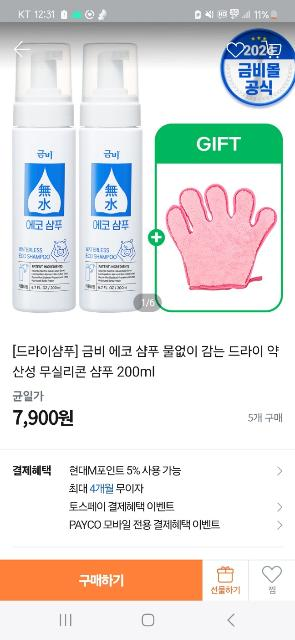Icon: (261, 40, 283, 59), (262, 566, 282, 584), (14, 41, 32, 58), (226, 41, 244, 57), (217, 567, 235, 583), (278, 466, 282, 476), (278, 502, 282, 512), (278, 520, 282, 530)
Image: (0, 23, 295, 318)
Text: (12, 344, 280, 378), (13, 390, 74, 428), (70, 520, 220, 530), (70, 466, 180, 476), (70, 502, 174, 512), (70, 484, 144, 494), (79, 572, 125, 588), (13, 466, 51, 476), (249, 413, 283, 423), (212, 586, 240, 594), (141, 298, 155, 306), (270, 586, 276, 594)
TextButton: (0, 560, 202, 600)
TextImageButton: (203, 560, 249, 600), (249, 560, 295, 600)
UpperTaskBar: (0, 0, 295, 22)
